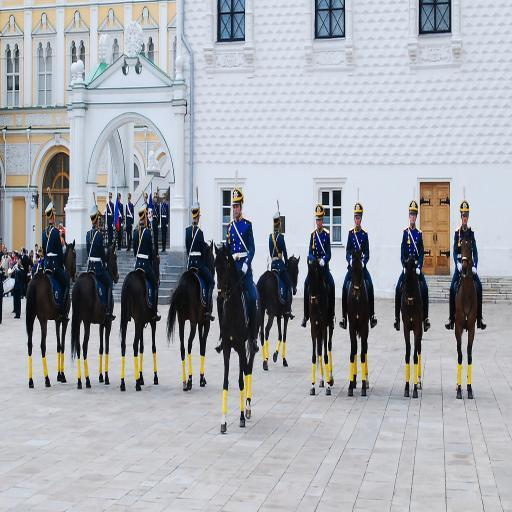horse: (214, 240, 260, 430), (165, 238, 215, 391), (70, 238, 120, 388), (26, 241, 77, 387), (119, 241, 160, 391), (256, 254, 300, 372), (453, 226, 478, 400), (307, 251, 335, 397), (345, 244, 370, 398), (400, 257, 425, 397)
